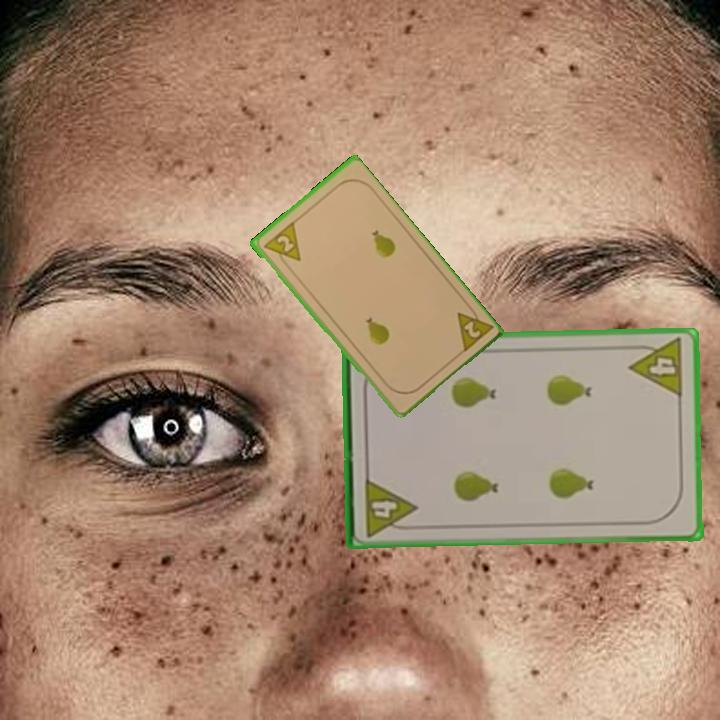2p: (453, 300, 495, 356), (258, 219, 303, 271)
4p: (626, 335, 687, 400), (361, 474, 419, 539)
